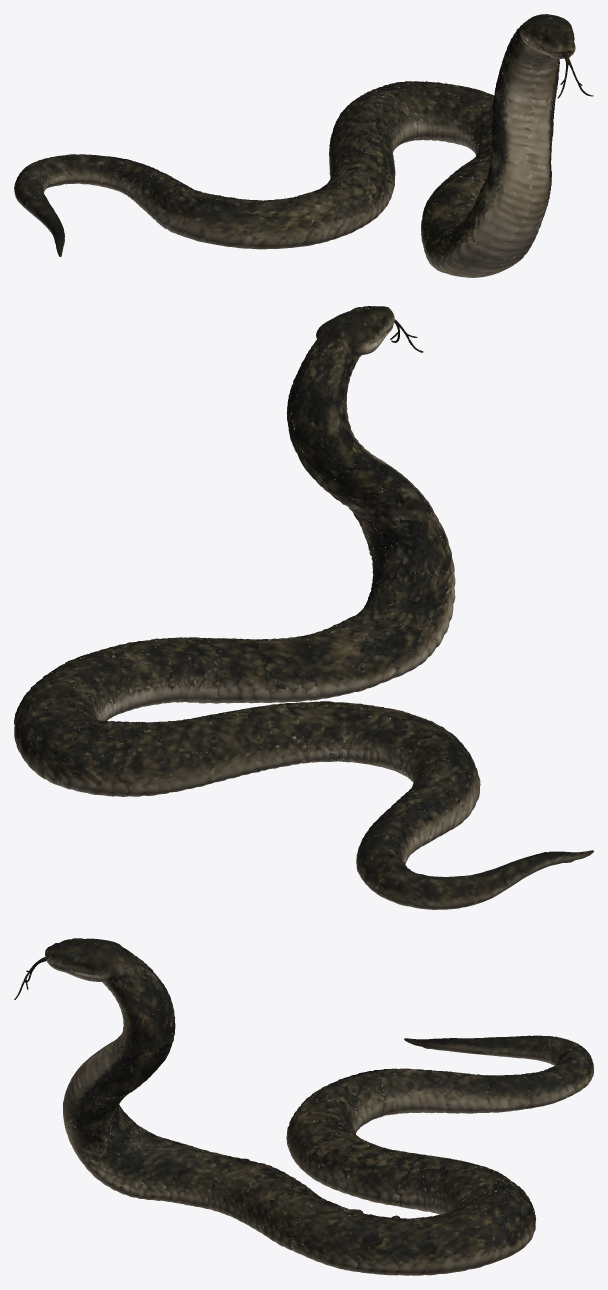
Rendered from 구렁이-색.glb.
The picture shows the model from 3 angles, top to bottom: view 1: azimuth 30°, elevation 25°; view 2: azimuth 150°, elevation 25°; view 3: azimuth 270°, elevation 25°; orthographic projection. The views are drawn at different scales.
Parts seen in each view (by area): view 1: Mesh_0; view 2: Mesh_0; view 3: Mesh_0.
Part boxes in pixels (x1=…): Mesh_0: x1=14, y1=14, x2=593, y2=277; Mesh_0: x1=14, y1=306, x2=593, y2=909; Mesh_0: x1=14, y1=938, x2=593, y2=1275.
Bounding box in the file's own units: 0.9965 × 0.5349 × 1.
